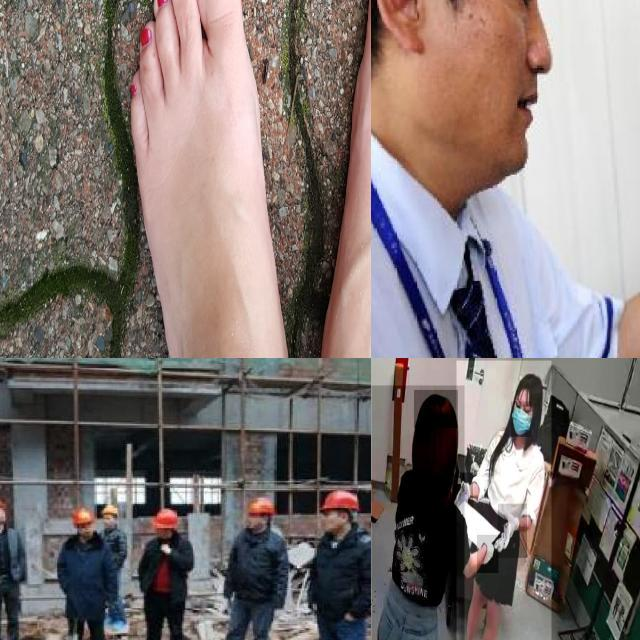Sandals: (127, 0, 295, 358), (313, 0, 371, 358)
face_mask: (511, 401, 531, 437), (0, 506, 6, 524)
face_nomask: (416, 0, 567, 177), (319, 509, 341, 534), (245, 512, 262, 534), (78, 522, 94, 539)
hand_glove: (498, 504, 527, 558), (477, 535, 499, 574), (450, 473, 473, 508)
head_helmet: (319, 486, 361, 513), (151, 506, 181, 529), (246, 494, 275, 516), (70, 506, 94, 526), (100, 502, 122, 516), (0, 494, 5, 513)
head_nohelmet: (414, 390, 458, 429), (513, 372, 545, 394)
person: (371, 0, 640, 358), (456, 360, 551, 640), (371, 385, 464, 640), (220, 495, 288, 640), (307, 487, 371, 640), (57, 502, 110, 640), (140, 507, 191, 640), (0, 493, 27, 640)
